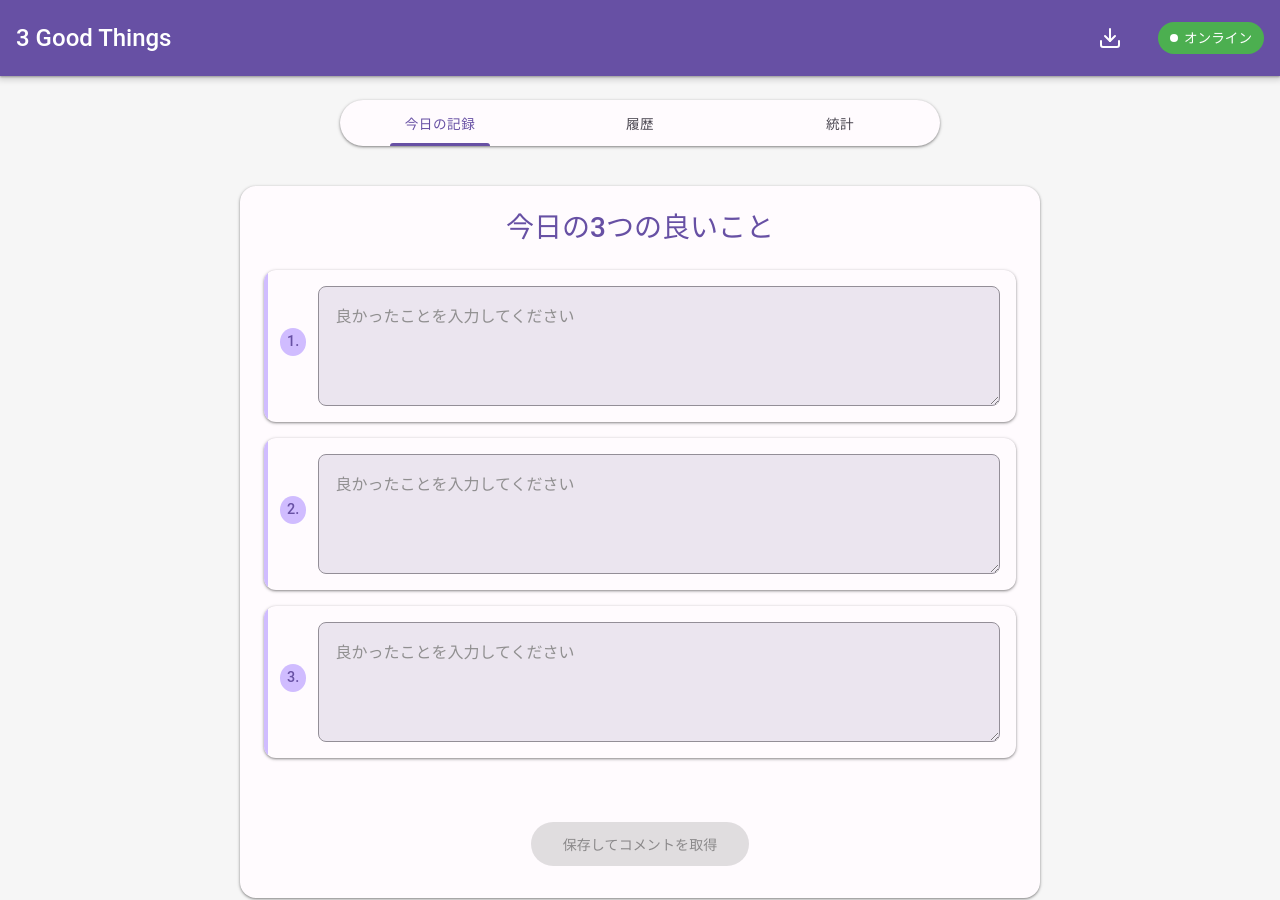
it: インテグレーションテスト › 過去のエントリー表示と選択
Expected: the heading "今日の3つの良いこと" is shown, [506,211,774,244]
Step 1. Click the tab "履歴" → (640, 123), box [540,100,740,146]
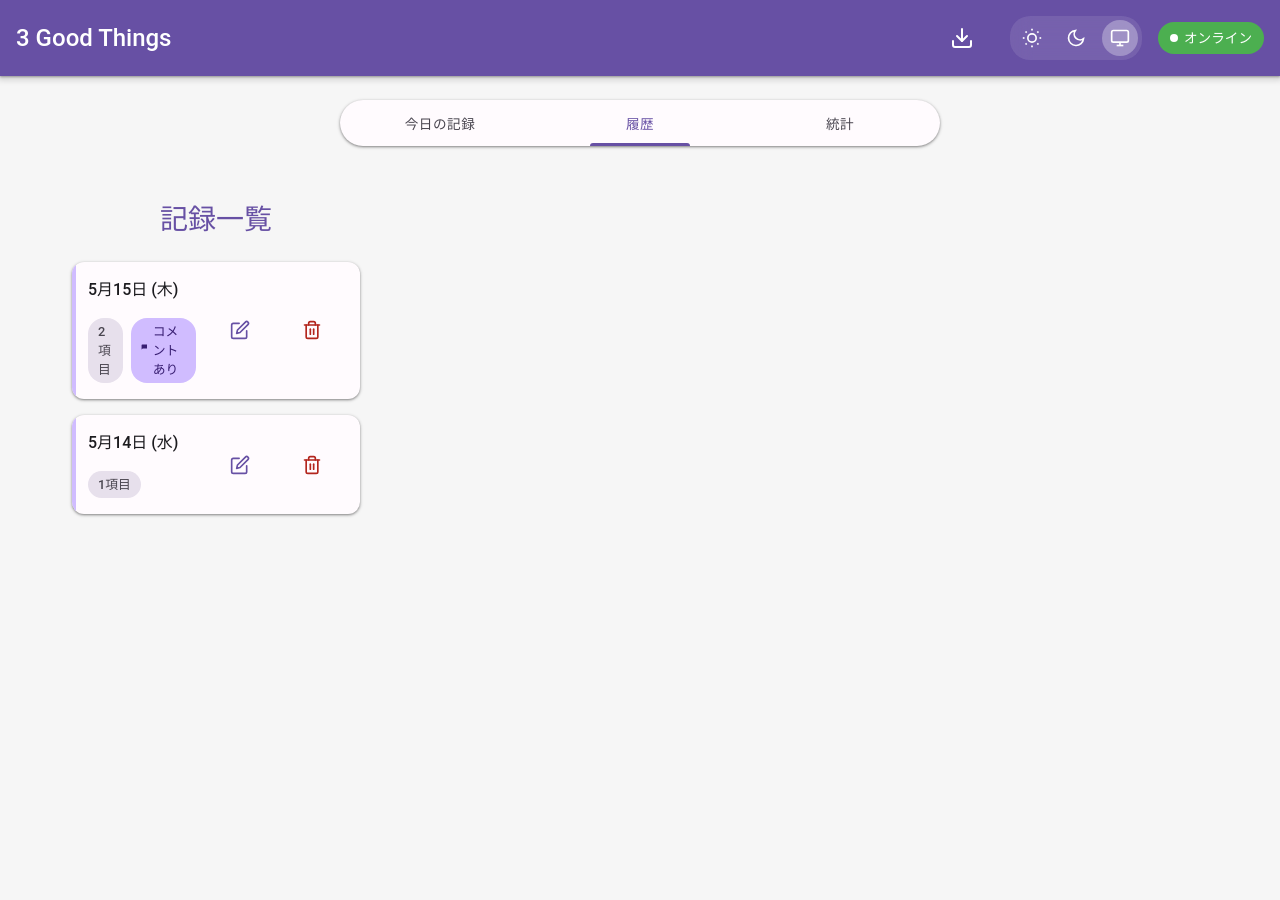
Expected: the text "5月15日 (木)" is shown
Expected: the text "5月14日 (水)" is shown, [88,433,178,452]
// 過去のエントリーをクリック
Step 2. Click the text "5月15日 (木)" → (133, 289), box [88,280,178,299]
(page scrolled)
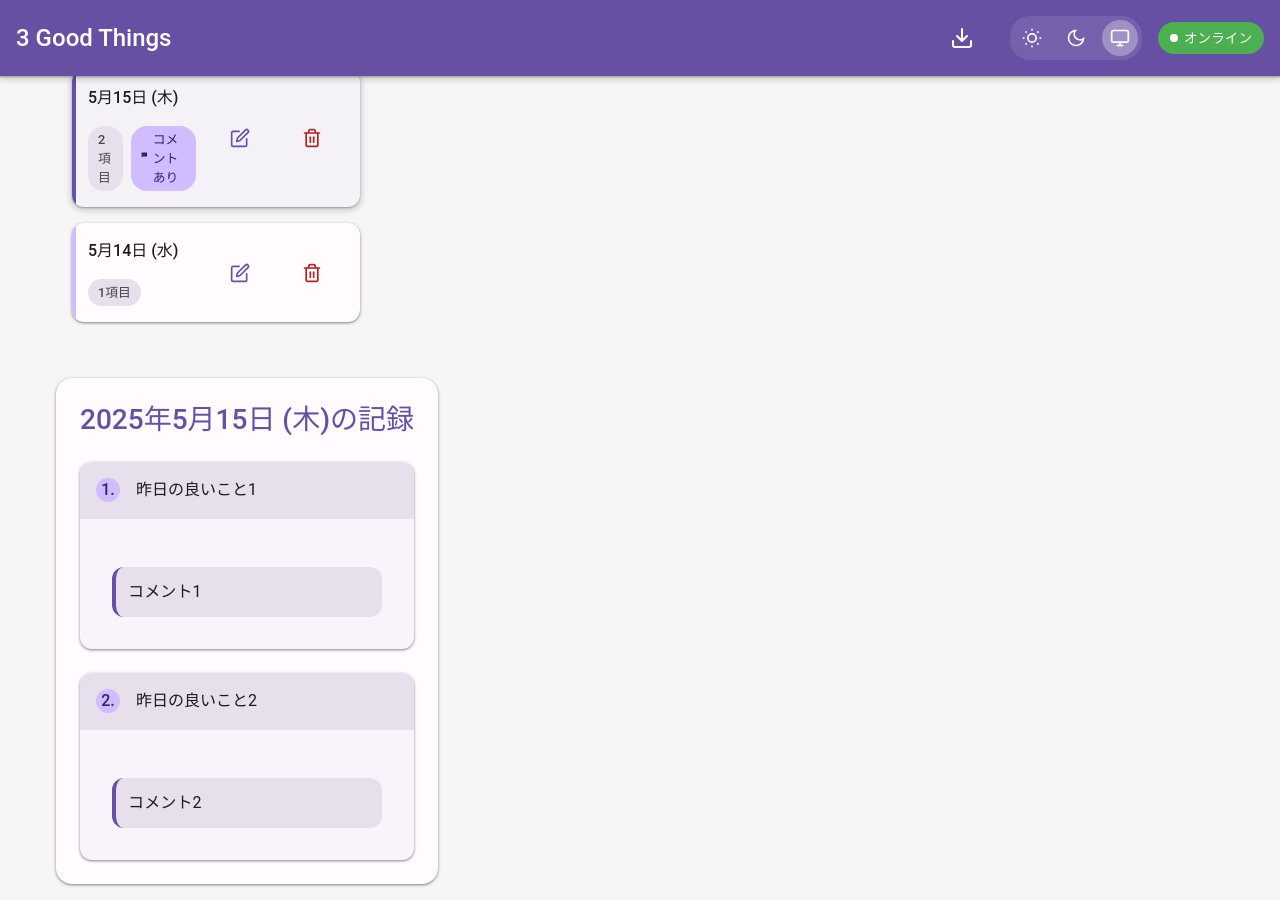
Expected: the text "昨日の良いこと1" is shown, [136,480,257,499]
Expected: the text "昨日の良いこと2" is shown, [136,691,257,710]
Expected: the text "コメント1" is shown, [128,582,202,601]
